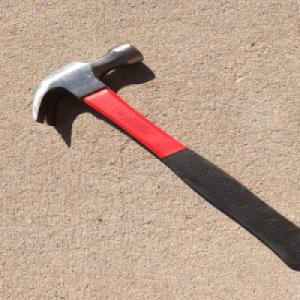Hammer: (29, 41, 300, 271)
